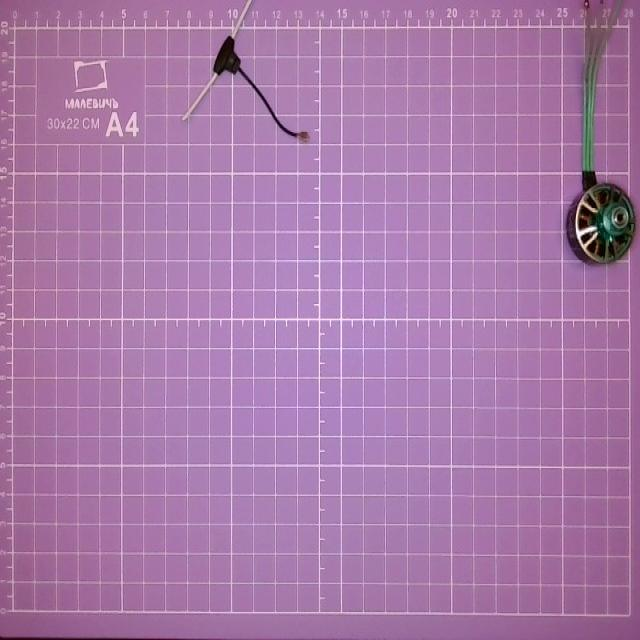antenna: (173, 0, 317, 145)
motor: (557, 0, 639, 276)
